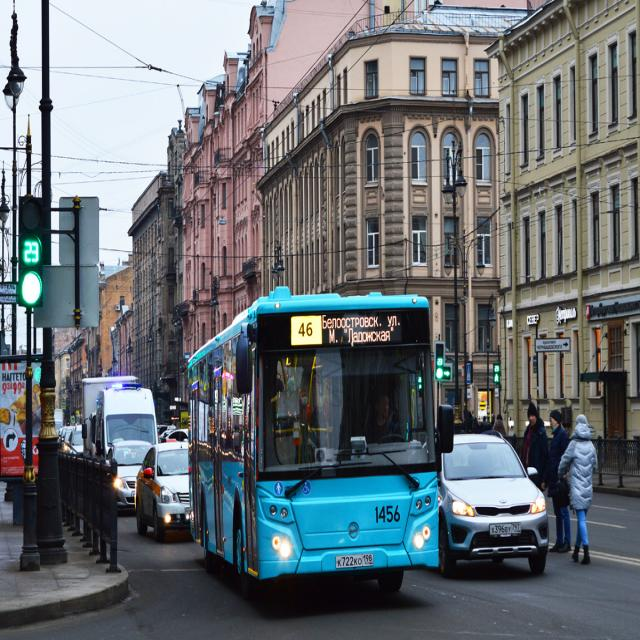number-of-bus: (297, 318, 319, 345)
